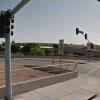Traffic light: (68, 20, 94, 42)
